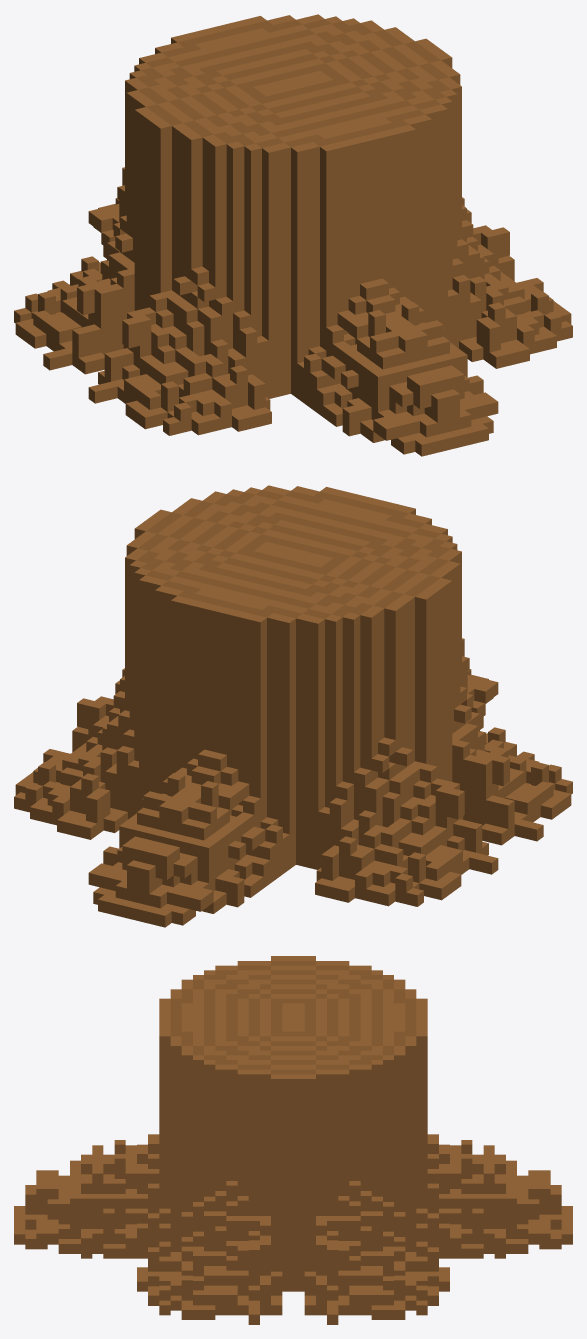
Rendered from cut log.obj.
3 views of the same model, one above another, from view 1: azimuth 30°, elevation 25°; view 2: azimuth 150°, elevation 25°; view 3: azimuth 270°, elevation 25° (orthographic). The views are drawn at different scales.
Size of the model in its own units: 4 by 2.1 by 5.
1 material, 1 textured.
